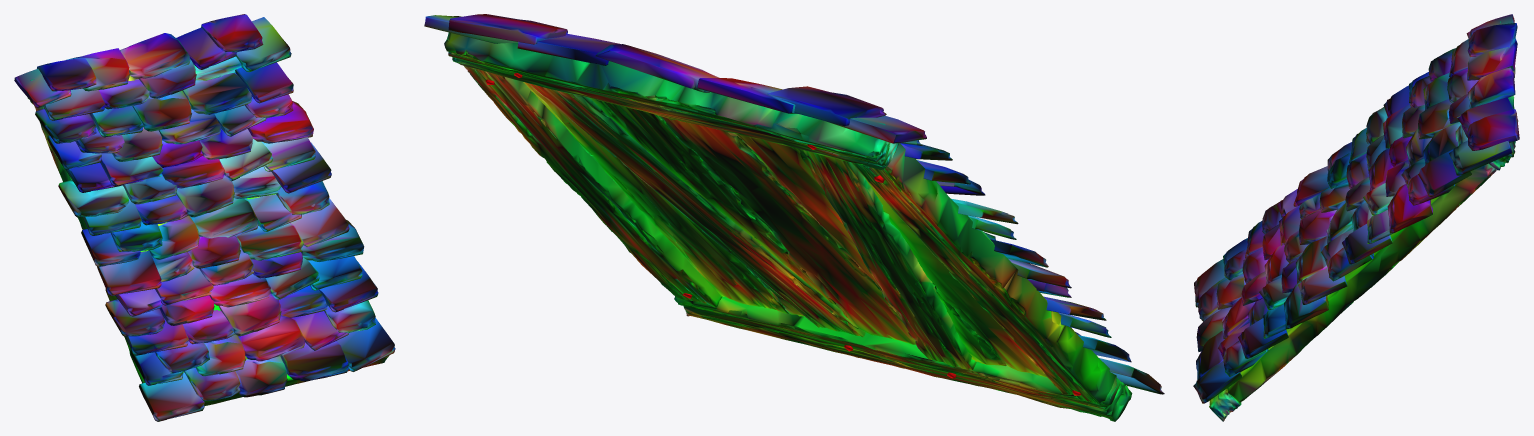
Rendered from SM_Stone_Roof.fbx.
3 renders of one model, left to right at view 1: azimuth 30°, elevation 25°; view 2: azimuth 150°, elevation 25°; view 3: azimuth 270°, elevation 25°, orthographic. The views are drawn at different scales.
Parts seen in each view (by area): view 1: SM_Stone_Roof_LOD0; view 2: SM_Stone_Roof_LOD0; view 3: SM_Stone_Roof_LOD0.
Boxes of the visible parts, x1,y1,x2,y2 form: SM_Stone_Roof_LOD0: (14, 14, 395, 421); SM_Stone_Roof_LOD0: (424, 14, 1164, 421); SM_Stone_Roof_LOD0: (1193, 14, 1519, 421).
Bounding box in the file's own units: 339 × 336 × 325.
